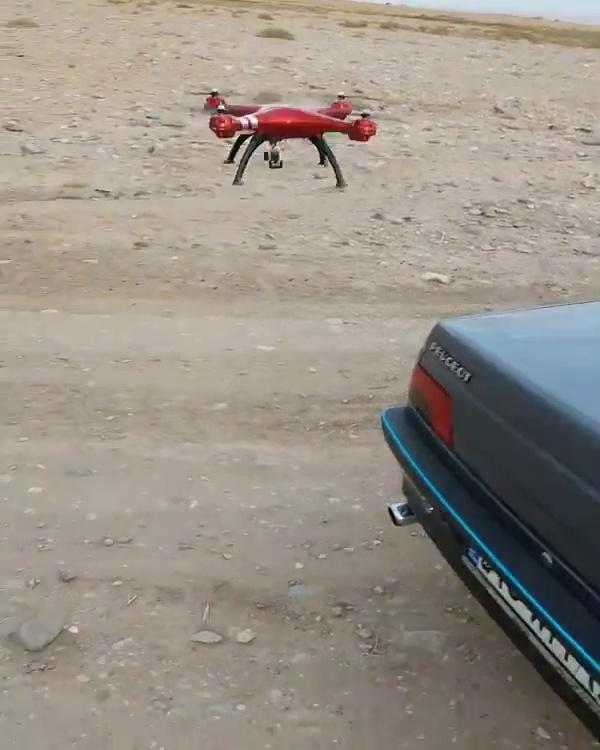drone: (191, 86, 389, 195)
